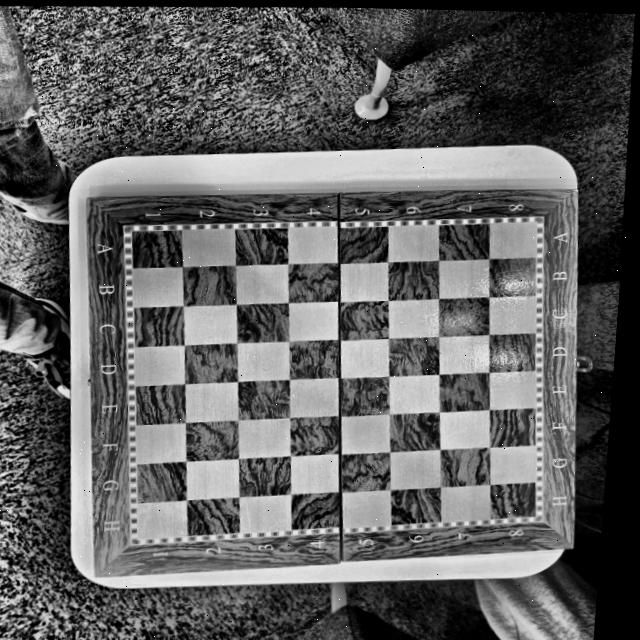chessboard: (121, 215, 545, 545)
p1: (128, 229, 138, 237)
p2: (531, 220, 540, 228)
p3: (529, 512, 539, 518)
p4: (135, 535, 144, 542)
